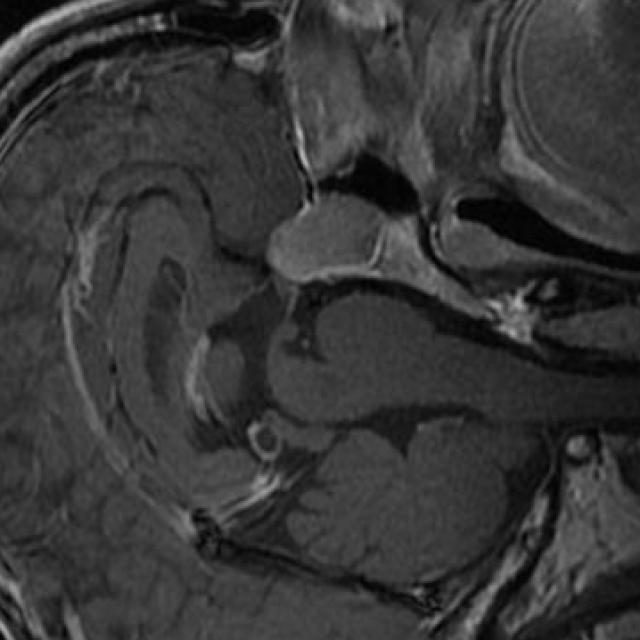pituitary: (266, 193, 385, 282)
